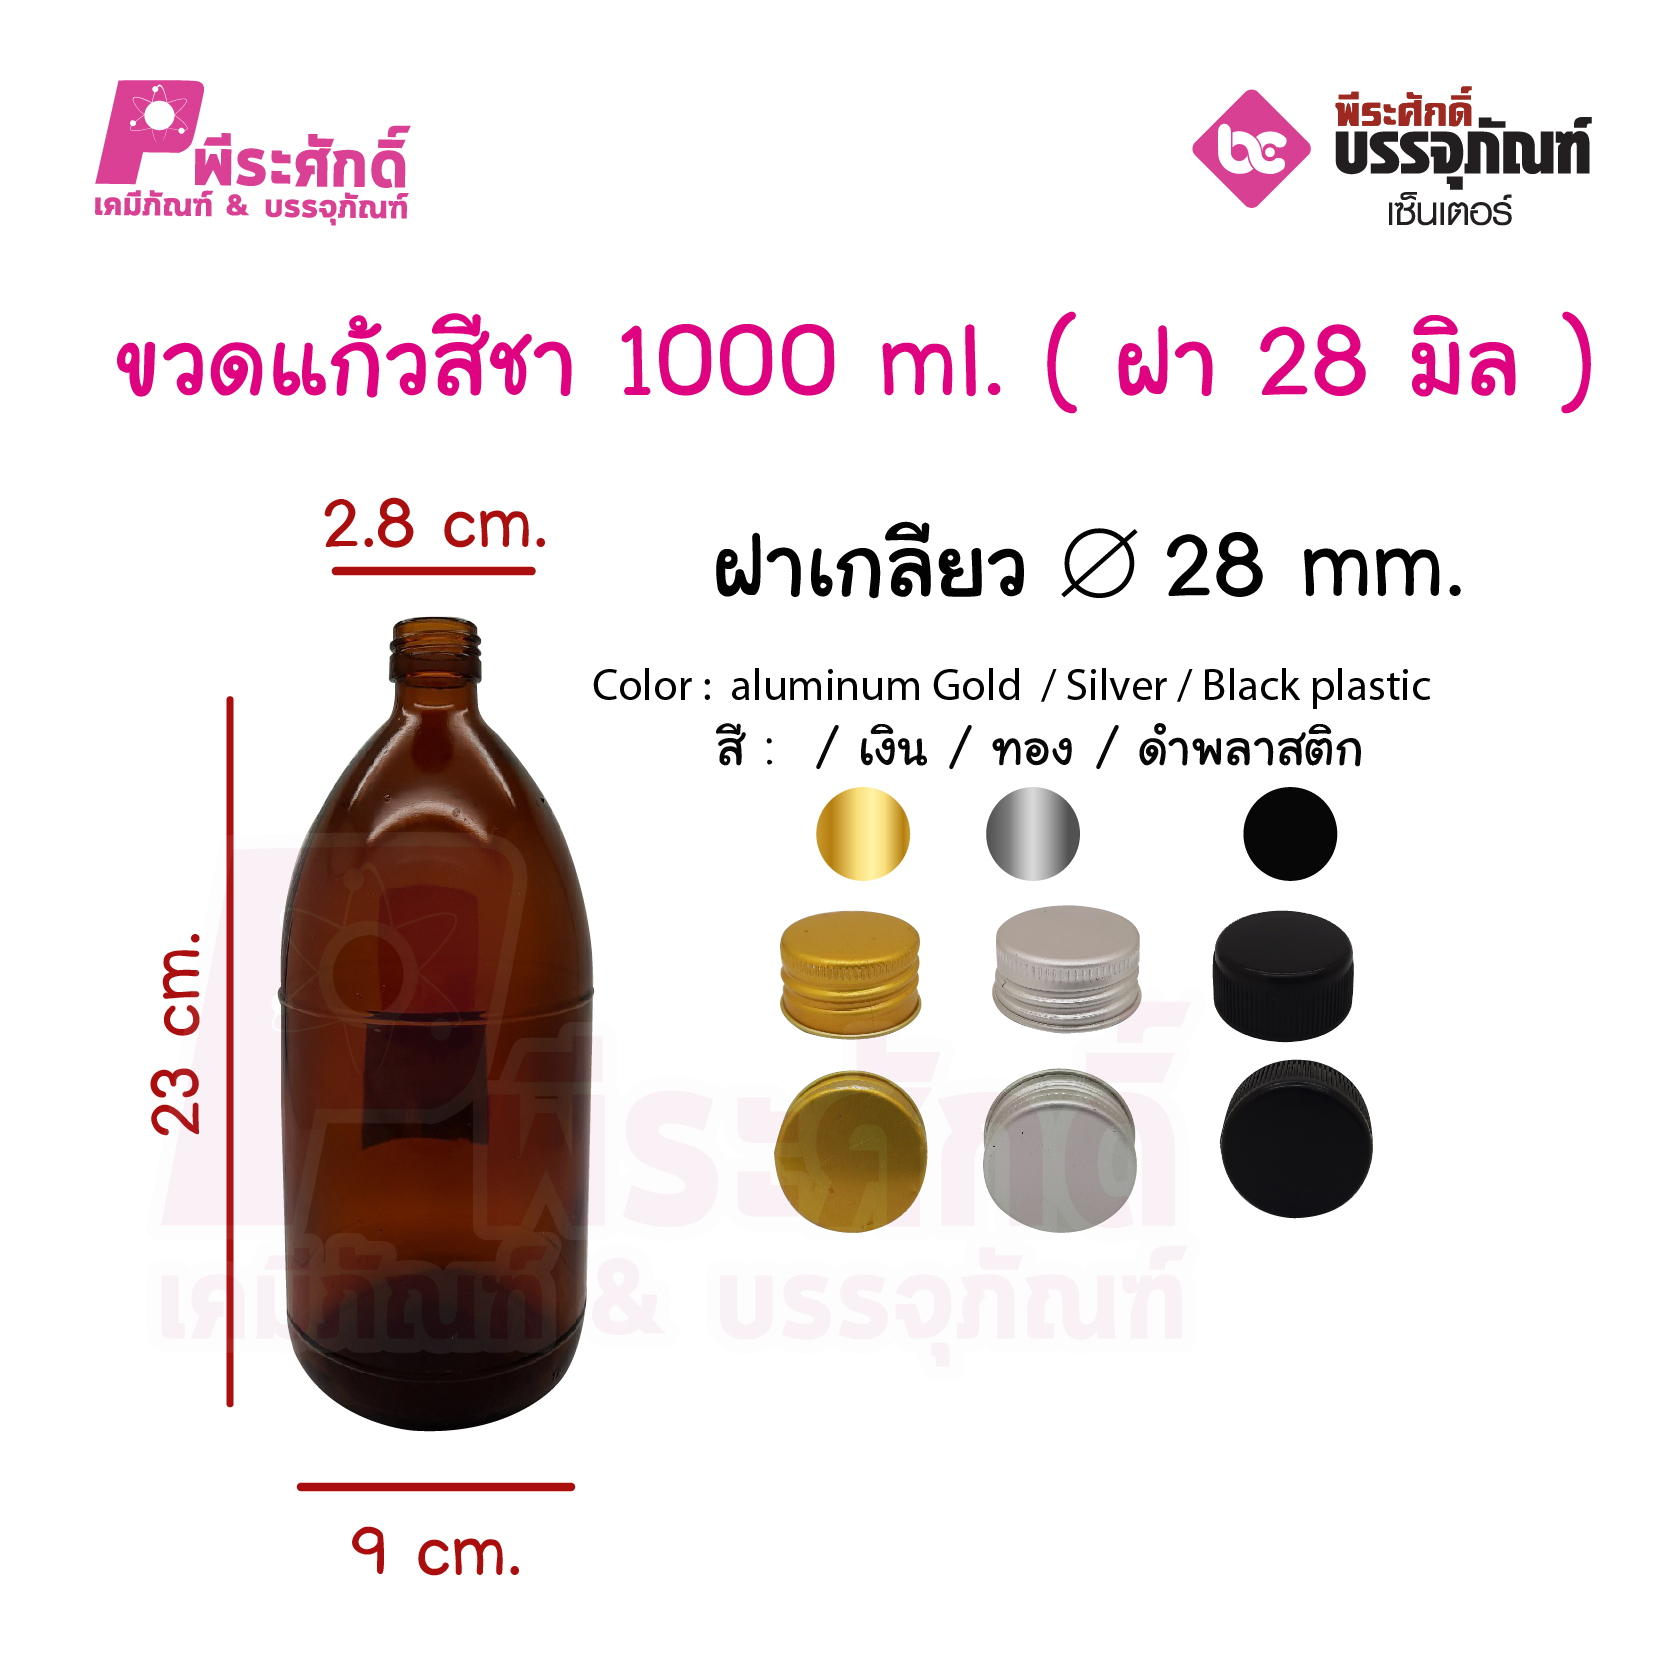glass_bottle: (256, 607, 624, 1447)
